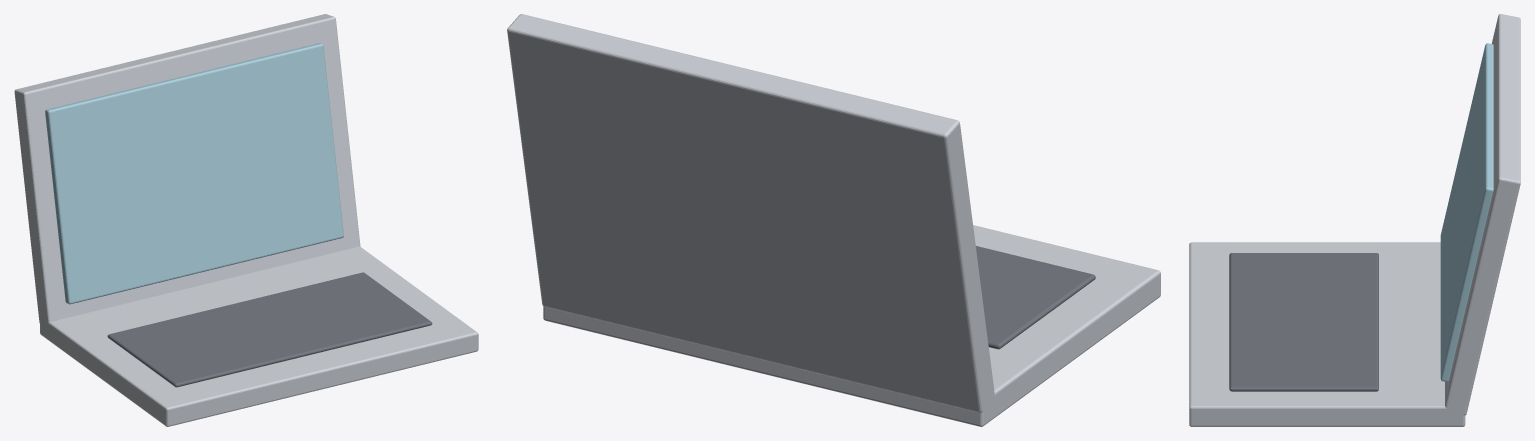
File: Laptop.fbx
3 renders of one model, left to right at view 1: azimuth 30°, elevation 25°; view 2: azimuth 150°, elevation 25°; view 3: azimuth 270°, elevation 25°, orthographic. The views are drawn at different scales.
Parts seen in each view (by area): view 1: Laptop; view 2: Laptop; view 3: Laptop.
Part boxes in pixels (x1=…): Laptop: x1=14, y1=14, x2=478, y2=426; Laptop: x1=507, y1=14, x2=1160, y2=426; Laptop: x1=1189, y1=14, x2=1520, y2=426.
Bounding box in the file's own units: 0.34 × 0.2392 × 0.2883.
